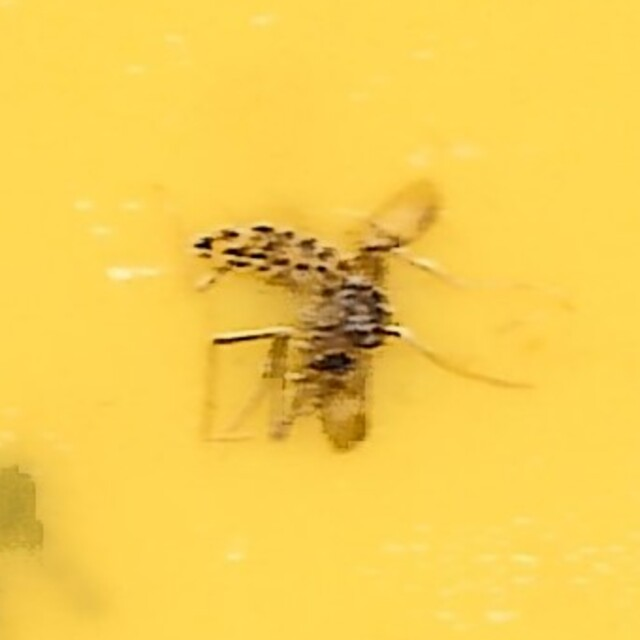Nematocera: (188, 179, 452, 461)
